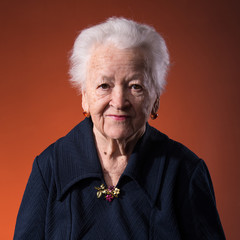young: (70, 23, 168, 142)
